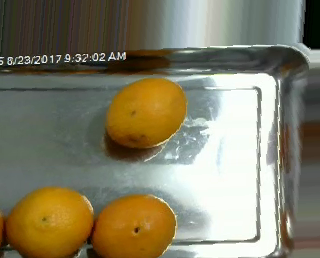Orange: (6, 184, 94, 258), (104, 76, 187, 149), (93, 191, 177, 258)
